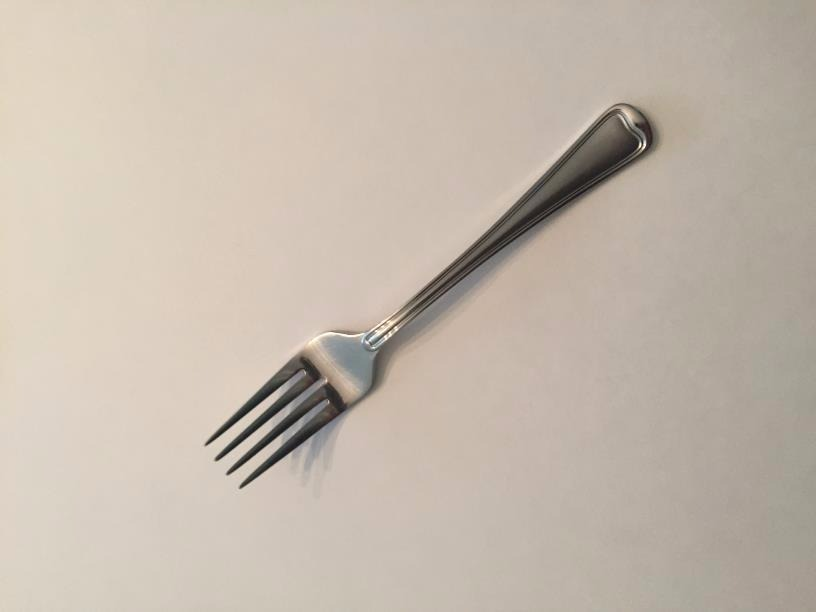fork: (199, 92, 678, 505)
